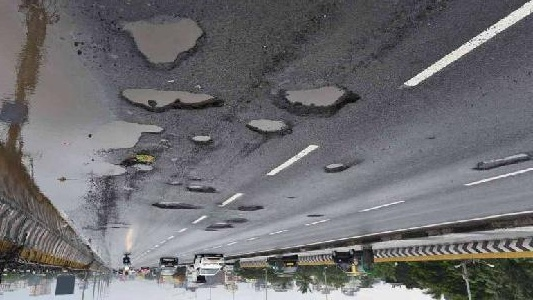pothole: (111, 15, 206, 72), (117, 87, 225, 115), (273, 85, 359, 119), (100, 121, 166, 152), (472, 152, 532, 174), (244, 118, 291, 139), (203, 215, 249, 234), (151, 200, 200, 211), (323, 161, 351, 175), (237, 202, 265, 213), (183, 184, 212, 194), (187, 134, 212, 145)
